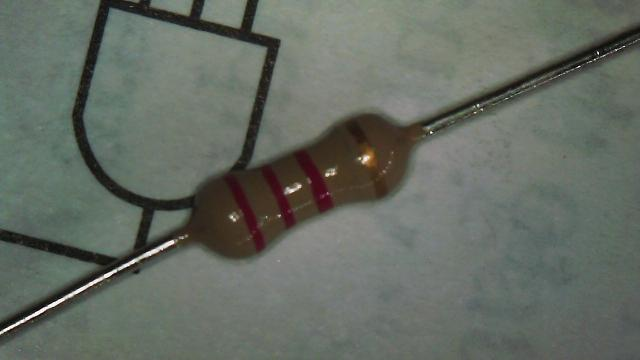gold: (345, 119, 388, 195)
red: (224, 174, 264, 251), (296, 150, 334, 212), (262, 165, 296, 228)
resistor: (154, 80, 450, 299)
